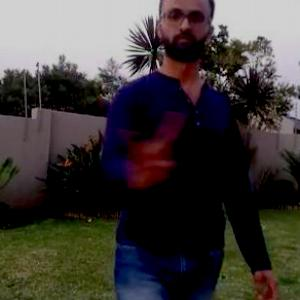takeoff-hand: (115, 116, 183, 192)
